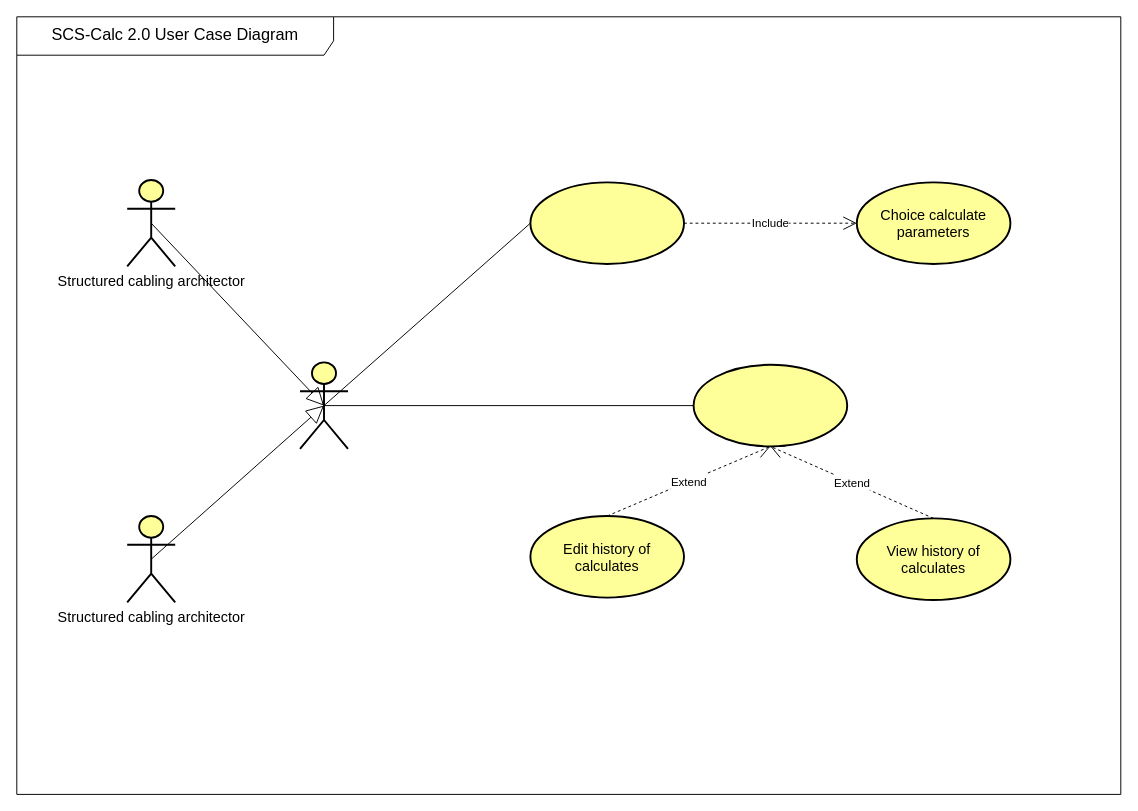
Some shapes in this 1138 by 811 pixel diagram are drawn without their labels. The centre of each missing label's shape, as x and y in pixels:
Calculate structured cabling configuration: point 606,222
Telecommunication cabling system specialist: point 323,405
Work with calculates history: point 770,405
